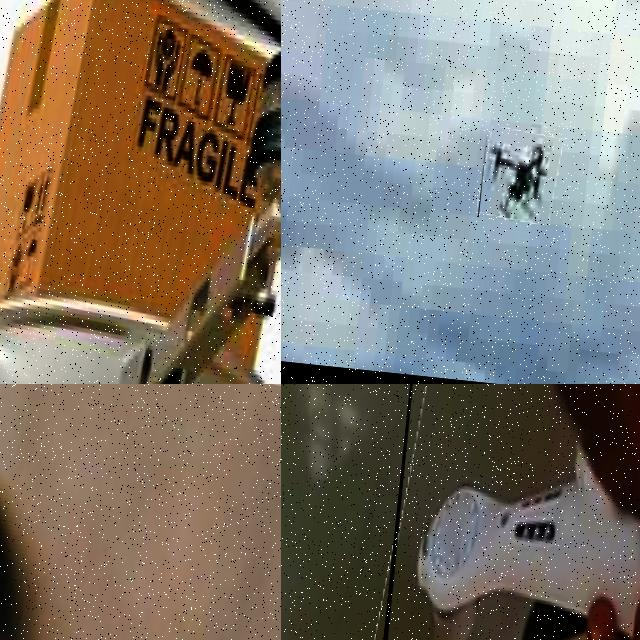0: (477, 127, 562, 225)
drone: (0, 0, 281, 384), (0, 384, 281, 640), (375, 384, 640, 640)
